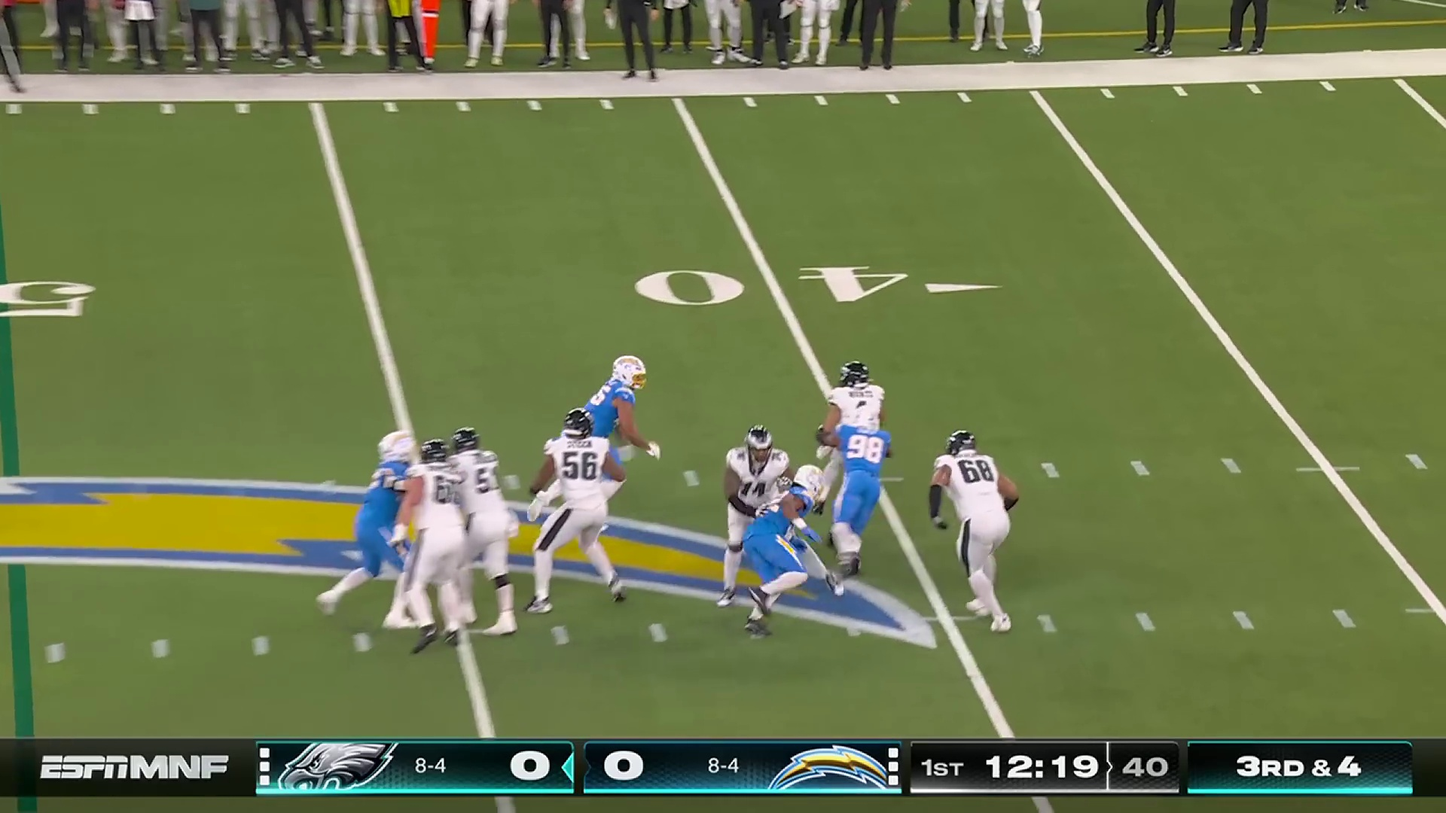player: (525, 409, 626, 609), (440, 423, 525, 638), (939, 420, 1022, 634), (343, 425, 421, 647), (545, 352, 653, 508), (821, 416, 901, 591), (743, 462, 822, 636), (406, 443, 469, 653), (719, 427, 790, 610), (806, 358, 877, 538)
